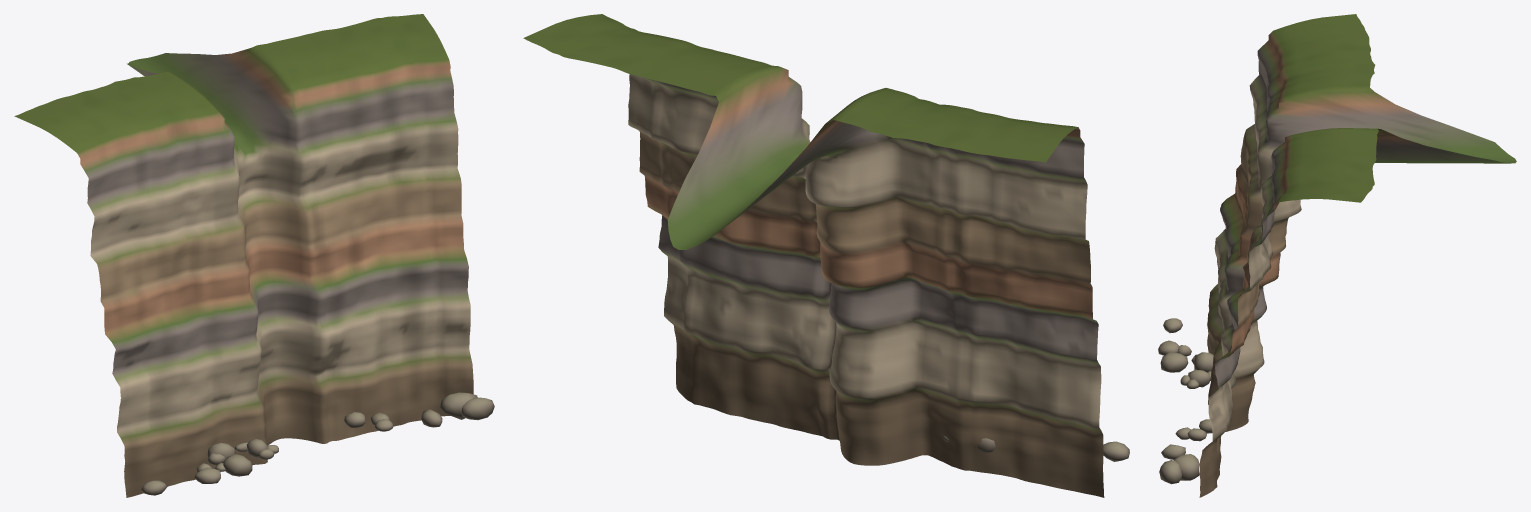
File: valley-cliff_falls.glb
3 views of the same model, side by side, from view 1: azimuth 30°, elevation 25°; view 2: azimuth 150°, elevation 25°; view 3: azimuth 270°, elevation 25° (orthographic). The views are drawn at different scales.
Parts seen in each view (by area): view 1: cliff_falls_face, cliff_falls_rocks; view 2: cliff_falls_face, cliff_falls_rocks; view 3: cliff_falls_face, cliff_falls_rocks.
Part boxes in pixels (<box>): cliff_falls_face: <box>14,14,473,497</box>; cliff_falls_rocks: <box>141,392,494,495</box>; cliff_falls_face: <box>523,14,1104,497</box>; cliff_falls_rocks: <box>943,435,1129,461</box>; cliff_falls_face: <box>1199,14,1516,497</box>; cliff_falls_rocks: <box>1158,318,1213,484</box>.
Size of the model in its own units: 68.31 by 52.6 by 54.88.
